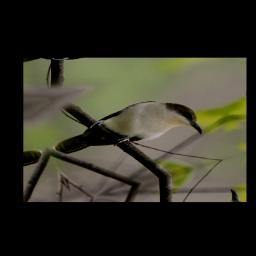Cuckoo: (42, 90, 206, 174)
